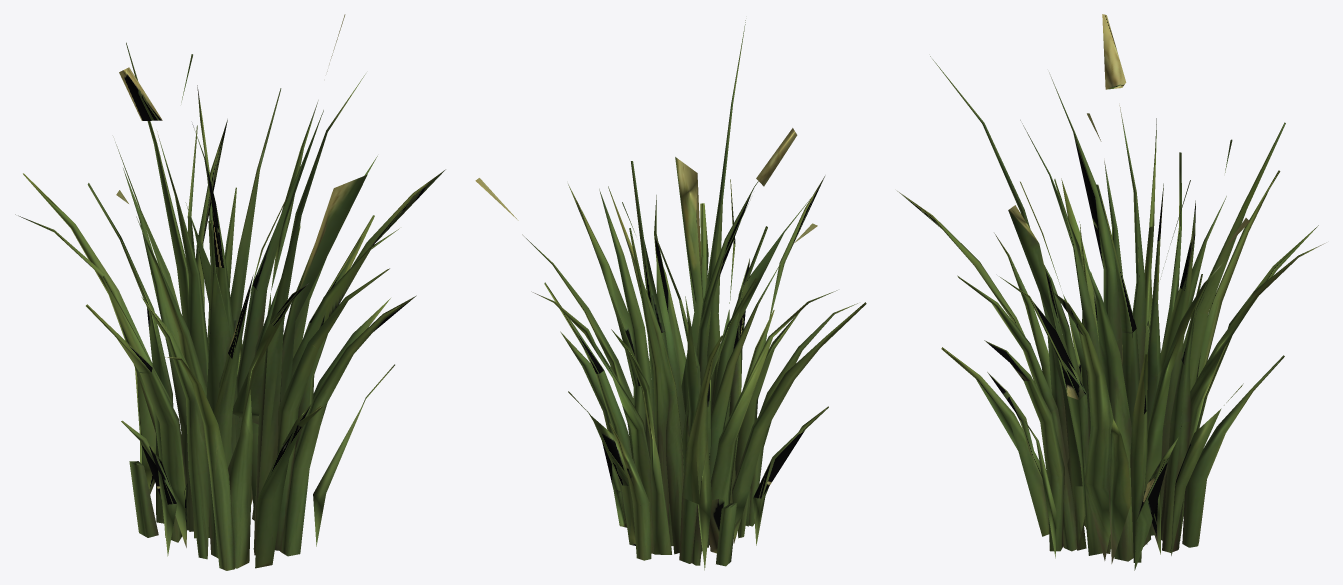
Rendered from obj_grass_blades.glb.
3 renders of one model, left to right at view 1: azimuth 30°, elevation 25°; view 2: azimuth 150°, elevation 25°; view 3: azimuth 270°, elevation 25°, orthographic. The views are drawn at different scales.
Parts seen in each view (by area): view 1: geometry_0; view 2: geometry_0; view 3: geometry_0.
Part boxes in pixels (x1,y1,x2,y2): geometry_0: (15, 14, 445, 570); geometry_0: (475, 20, 866, 570); geometry_0: (896, 14, 1326, 570).
Size of the model in its own units: 0.6152 by 0.8218 by 0.646.
Materials: 1 (1 with a texture image).
